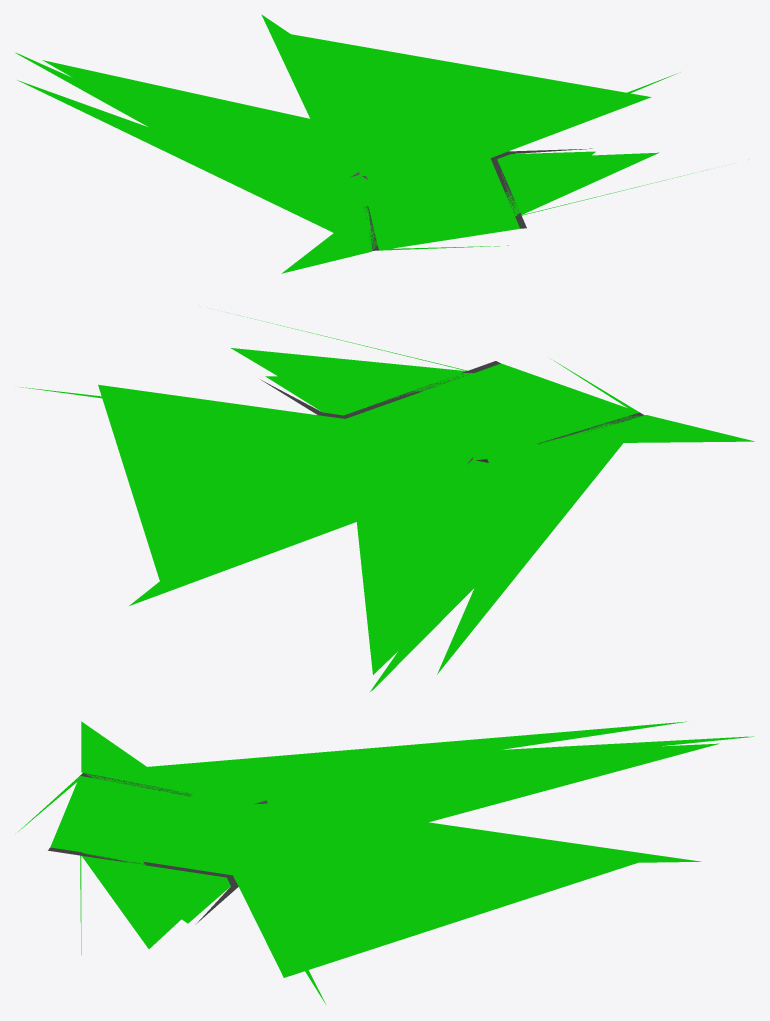
The picture shows the model from 3 angles, top to bottom: view 1: azimuth 30°, elevation 25°; view 2: azimuth 150°, elevation 25°; view 3: azimuth 270°, elevation 25°; orthographic projection. The views are drawn at different scales.
Size of the model in its own units: 300 by 2.5 by 330.
